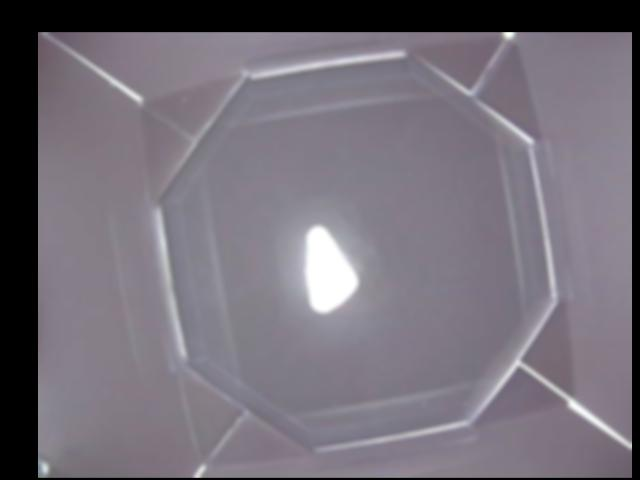Pebble: (307, 225, 357, 314)
